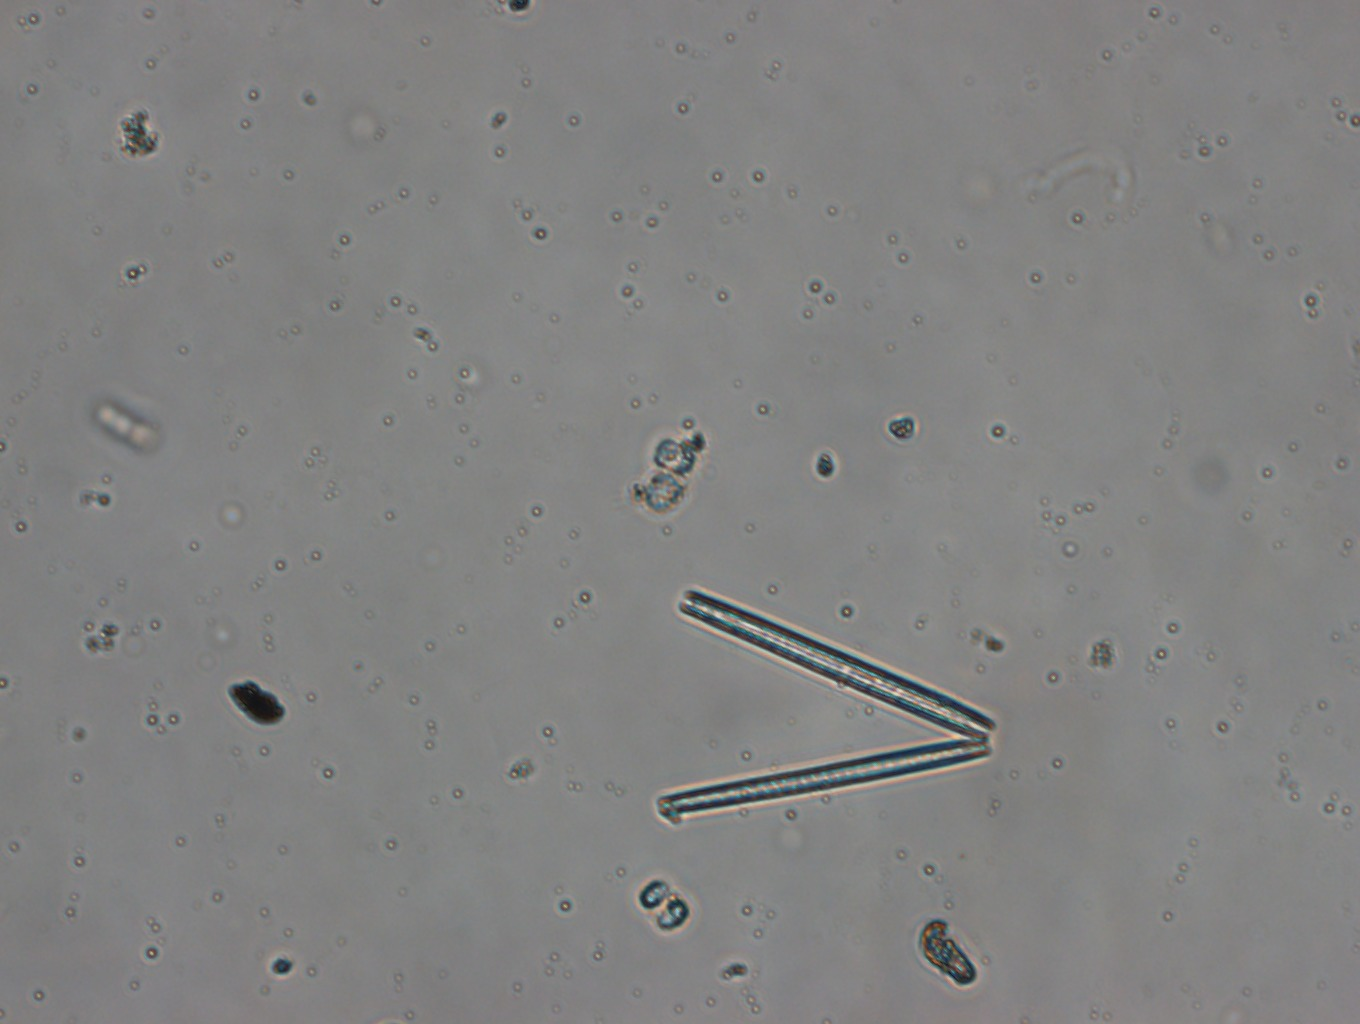thalassionema nitzschioides: (655, 586, 994, 823)
